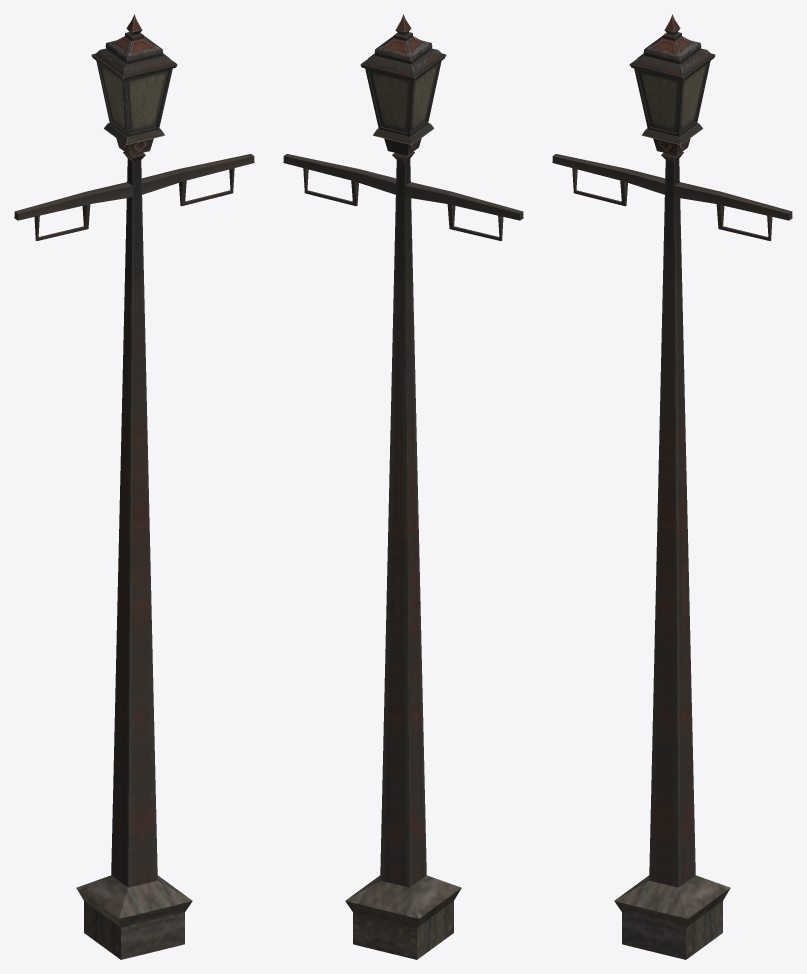
The model's file is ShortLamp.fbx.
3 views of the same model, side by side, from view 1: azimuth 30°, elevation 25°; view 2: azimuth 150°, elevation 25°; view 3: azimuth 330°, elevation 25° (orthographic).
Parts seen in each view (by area): view 1: Object002; view 2: Object002; view 3: Object002.
Part boxes in pixels (left/top/right/bottom): Object002: left=14, top=14, right=254, bottom=959; Object002: left=283, top=14, right=523, bottom=959; Object002: left=552, top=14, right=792, bottom=959.
Size of the model in its own units: 2.4 by 8.97 by 0.7514.
